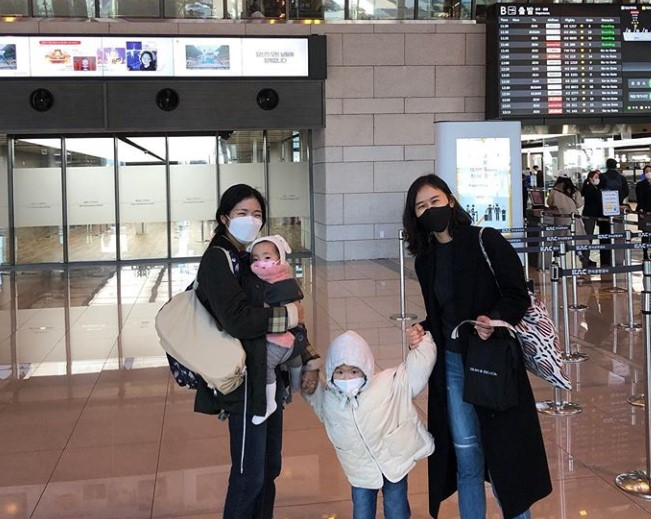face_with_mask: (407, 173, 460, 238), (327, 327, 373, 397), (220, 185, 268, 243), (250, 235, 288, 276)
